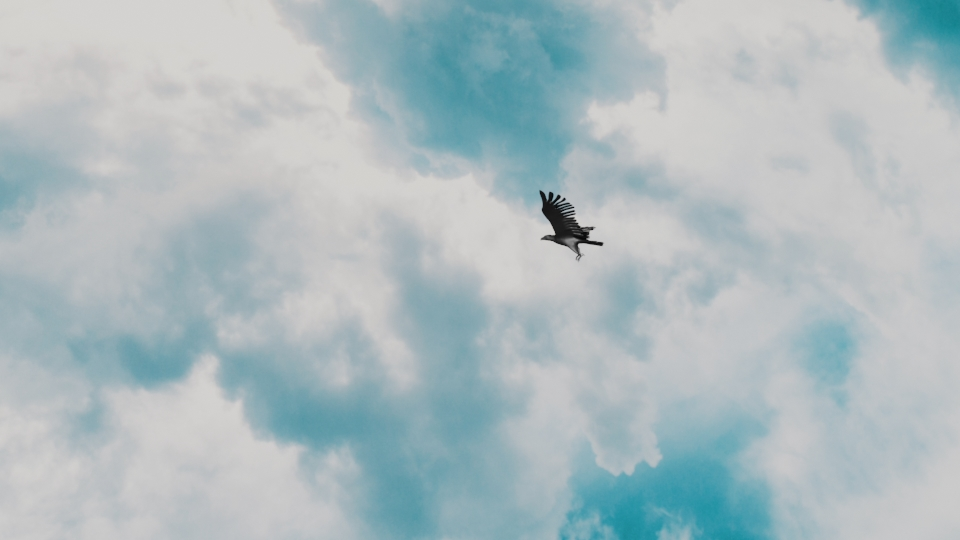bird: (537, 187, 601, 264)
